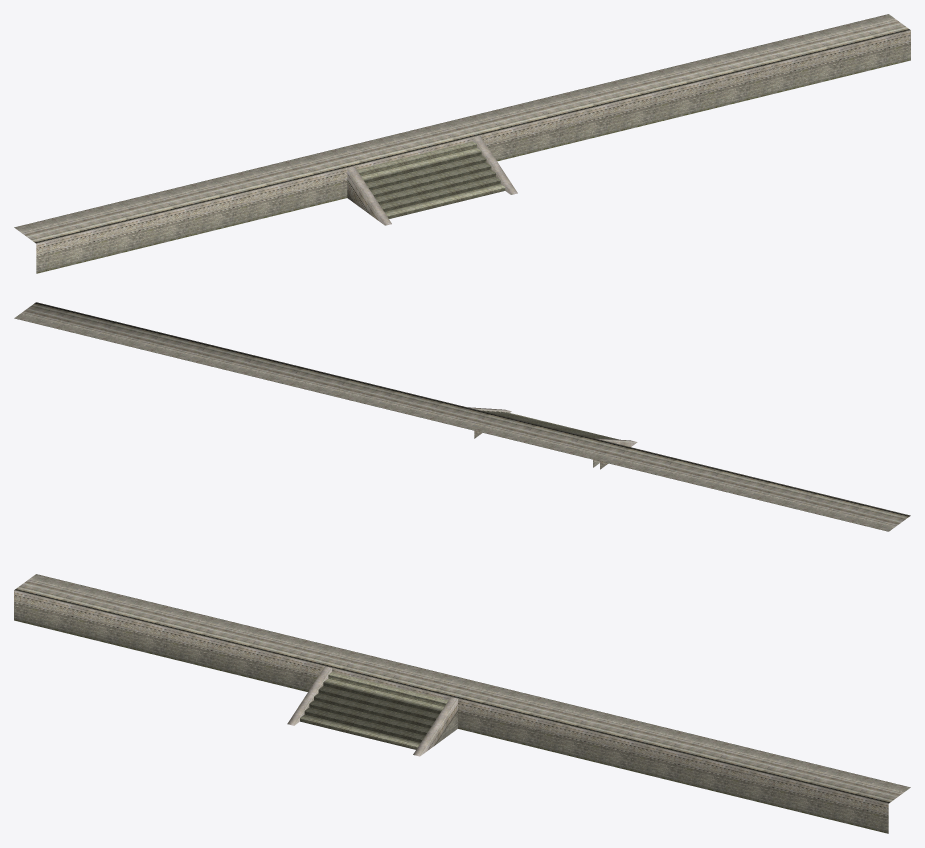
The model's file is cj_pal_right_stair.glb.
3 renders of one model, top to bottom at view 1: azimuth 30°, elevation 25°; view 2: azimuth 150°, elevation 25°; view 3: azimuth 330°, elevation 25°, orthographic.
Parts seen in each view (by area): view 1: CJ_pal_right_stair01, CJ_pal_right_stair01_1; view 2: CJ_pal_right_stair01, CJ_pal_right_stair01_1; view 3: CJ_pal_right_stair01, CJ_pal_right_stair01_1.
Boxes of the visible parts, x1=… form: CJ_pal_right_stair01: x1=14, y1=14, x2=910, y2=273; CJ_pal_right_stair01_1: x1=357, y1=141, x2=505, y2=218; CJ_pal_right_stair01: x1=14, y1=302, x2=910, y2=531; CJ_pal_right_stair01_1: x1=482, y1=410, x2=618, y2=439; CJ_pal_right_stair01: x1=14, y1=574, x2=910, y2=833; CJ_pal_right_stair01_1: x1=300, y1=672, x2=448, y2=749.
Bounding box in the file's own units: 61.88 × 2.04 × 7.37.
2 materials, 2 textured.
